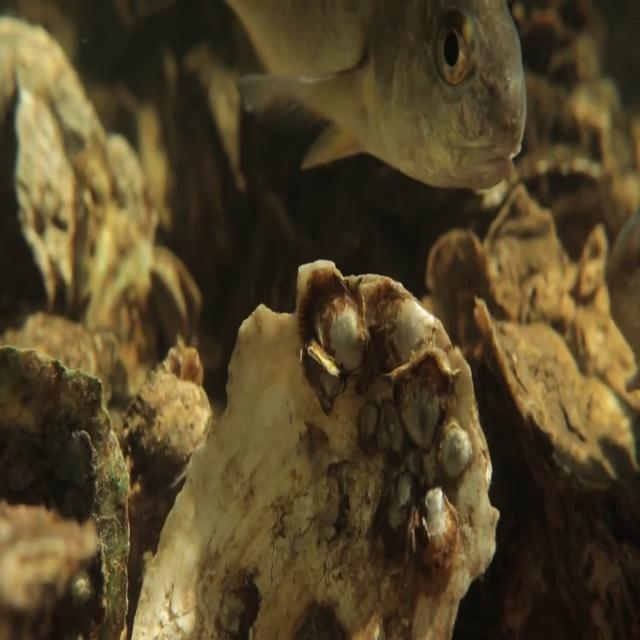Oyster-Closed: (463, 291, 637, 519), (7, 54, 83, 310)
Oyster-Indeterminate: (132, 254, 501, 639), (0, 341, 132, 639), (112, 340, 216, 639)
